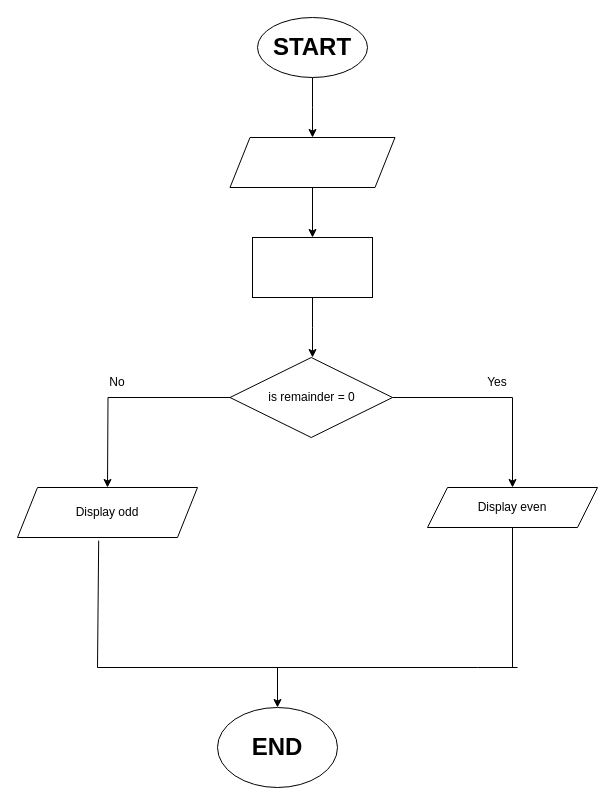
This 615x805 diagram has some shape labels left out. Each missing label, with the centre of its shape:
"Accept a Number" belongs at (x=312, y=162).
"Divisible by 2" belongs at (x=312, y=267).
